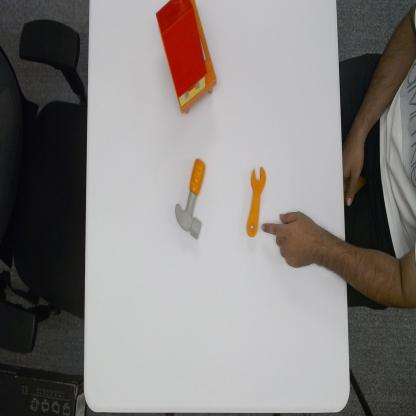Arm: (326, 230, 416, 312)
Hammer: (173, 156, 206, 241)
Hand: (260, 208, 324, 270)
House: (154, 0, 218, 118)
Screwdriver: (245, 163, 266, 238)
